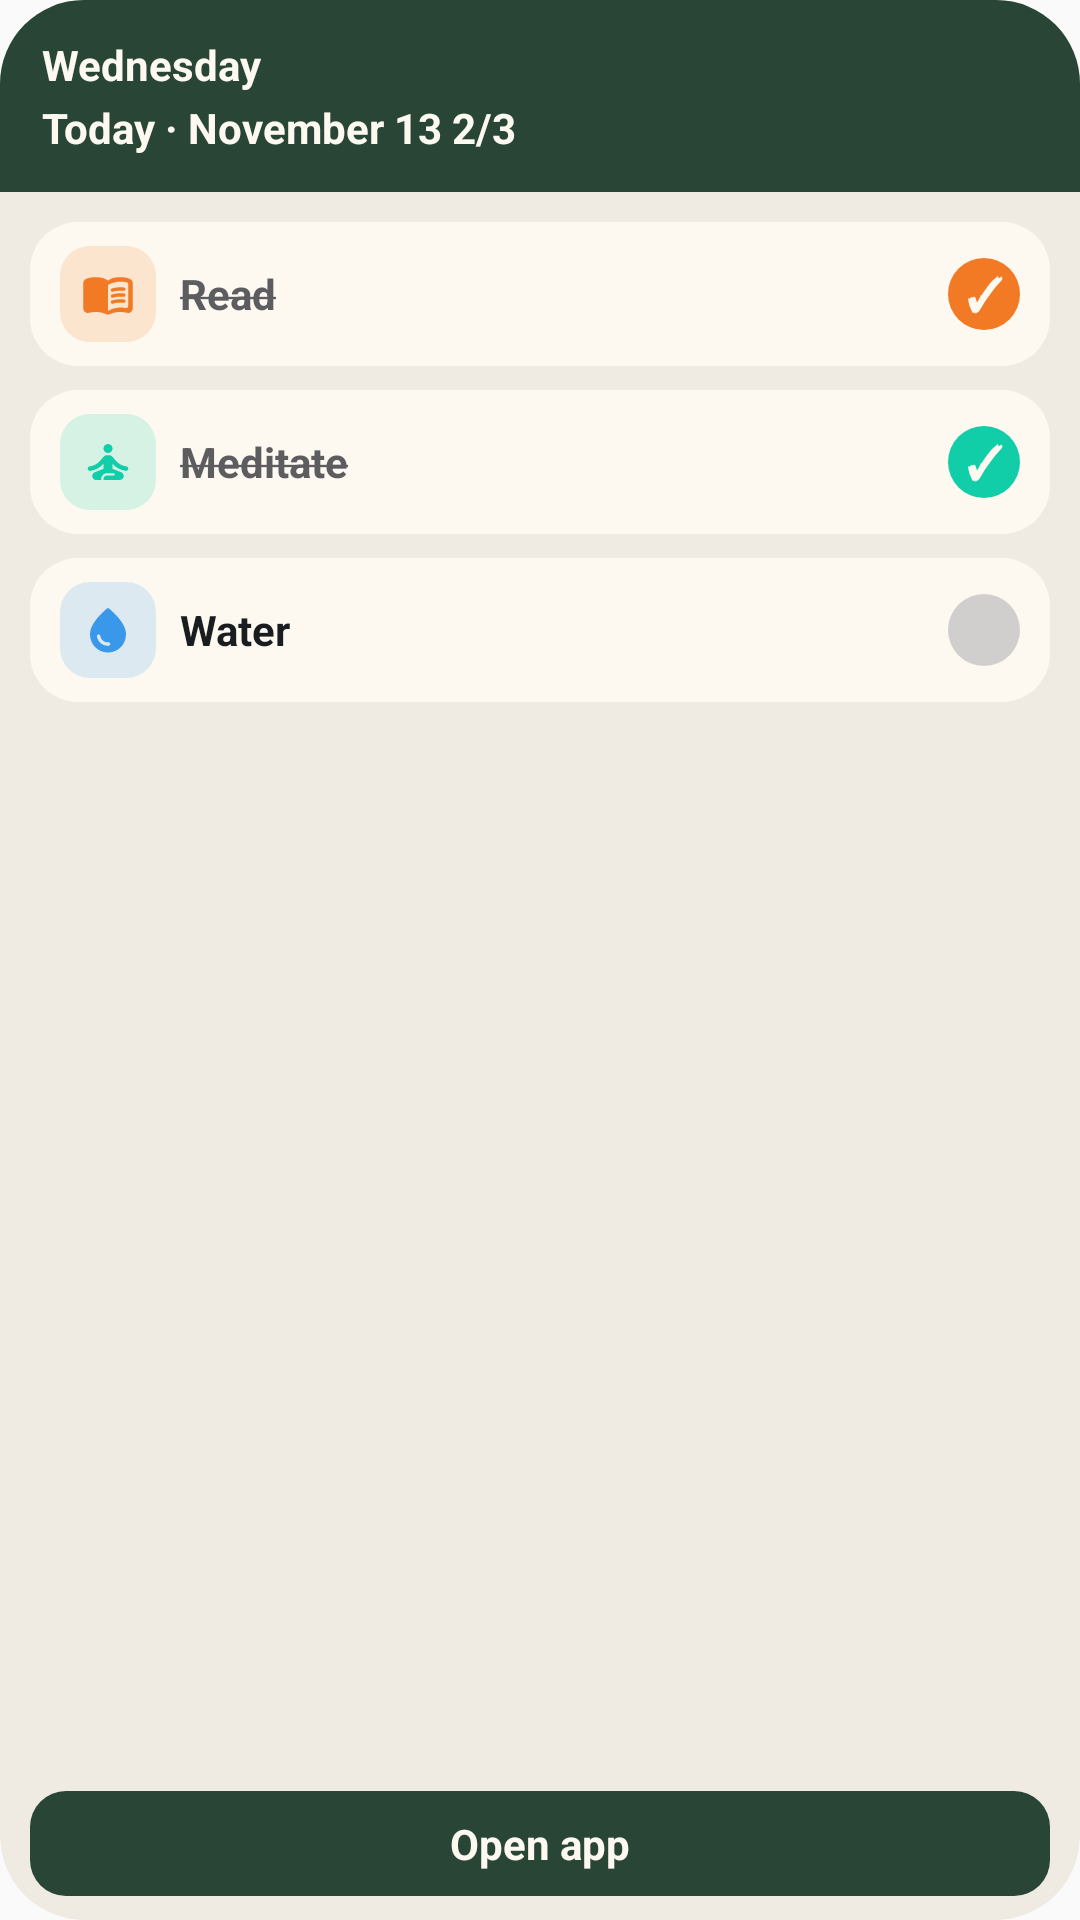

Locate icon controls on the screen. Image size 1080w x 1920h, boxes as (x1, y1, x2, y2).
habit menu book: (83, 277, 133, 315)
habit self improvement: (87, 444, 129, 480)
